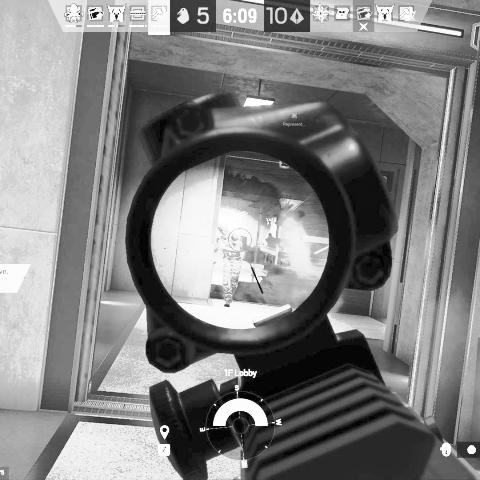Character: (213, 222, 243, 308), (265, 231, 275, 265)
Head: (218, 223, 229, 236), (269, 232, 272, 237)
